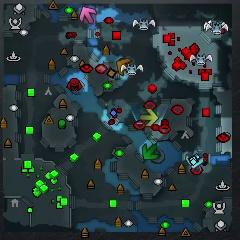x1: (79, 7, 96, 24)
x2: (140, 109, 158, 126)
x3: (186, 149, 202, 168)
x4: (142, 143, 159, 159)
x5: (117, 57, 132, 76)
